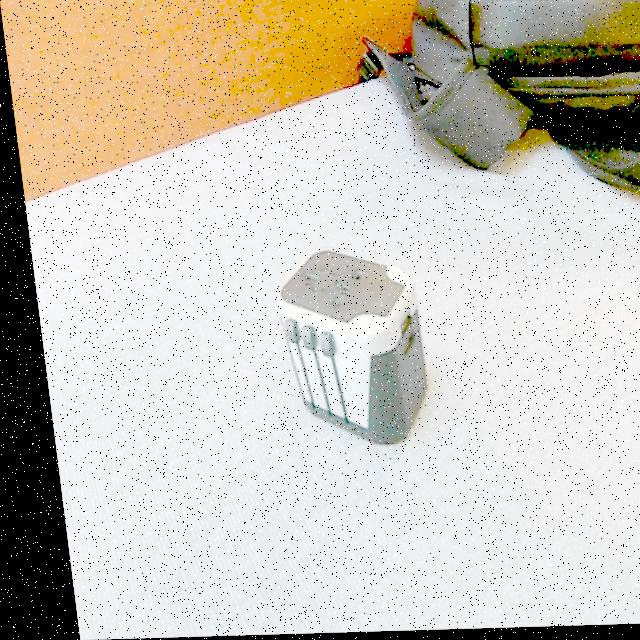adapter: (263, 246, 424, 448)
